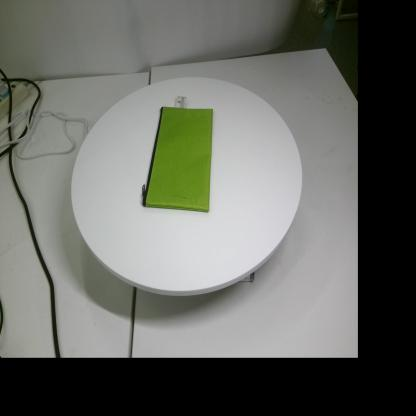Stationery: (142, 96, 213, 212)
